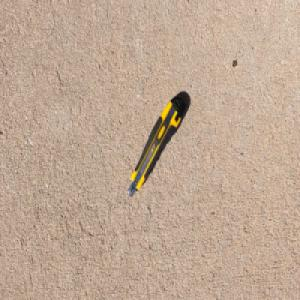Cutter: (126, 93, 187, 198)
